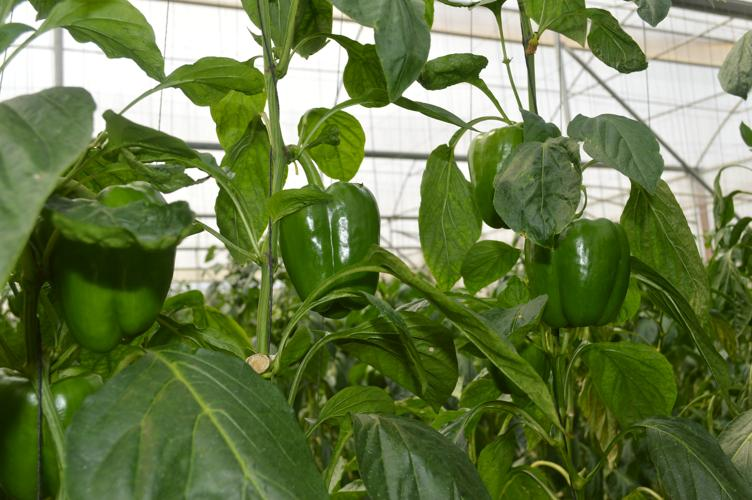BellPepper: (50, 182, 179, 335), (278, 182, 382, 310), (513, 216, 633, 326), (4, 367, 95, 489), (456, 126, 526, 232)
